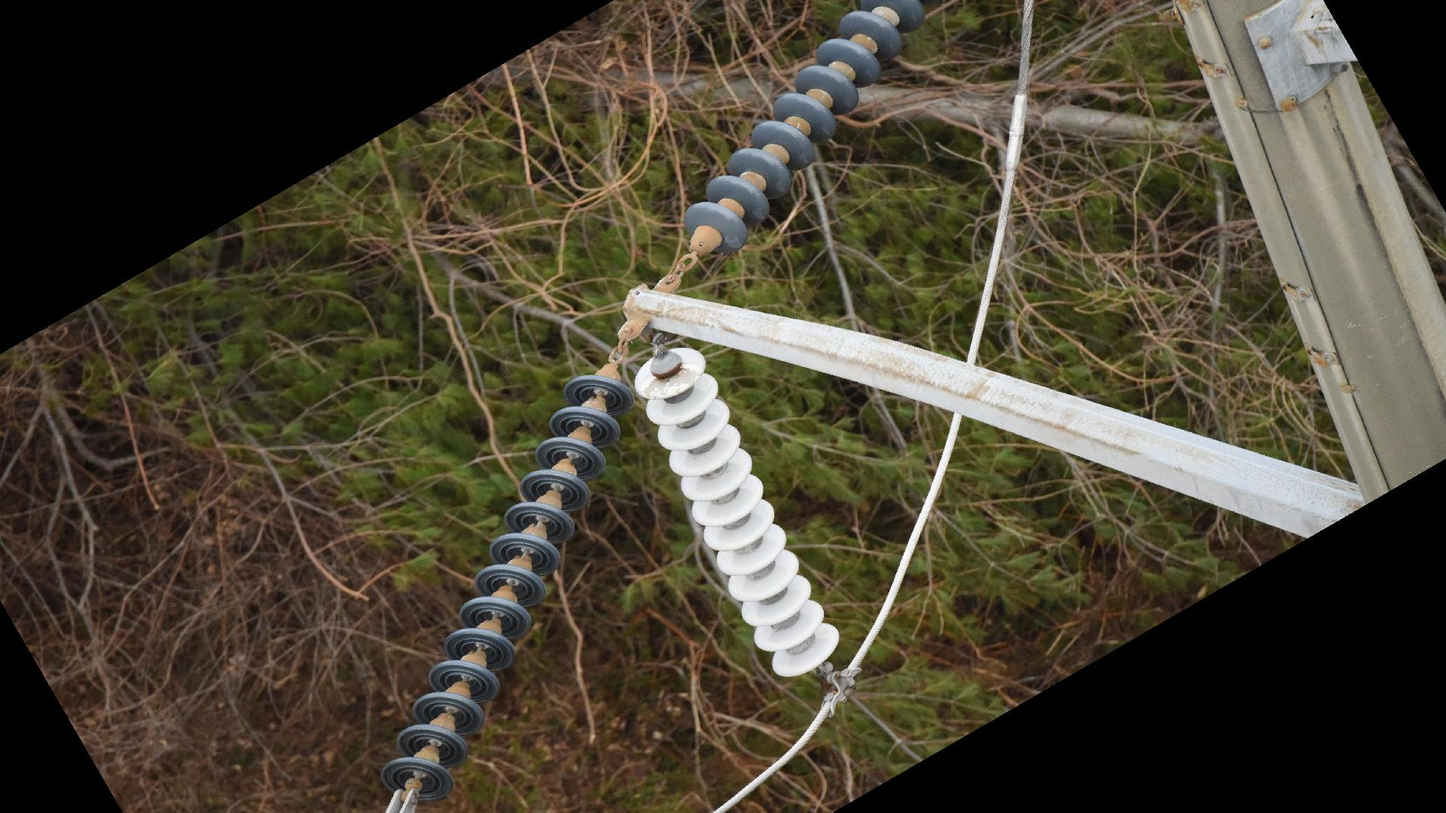insulator: (376, 368, 637, 802), (634, 345, 844, 684), (681, 1, 931, 257)
insulator_flashover: (642, 365, 700, 402)
